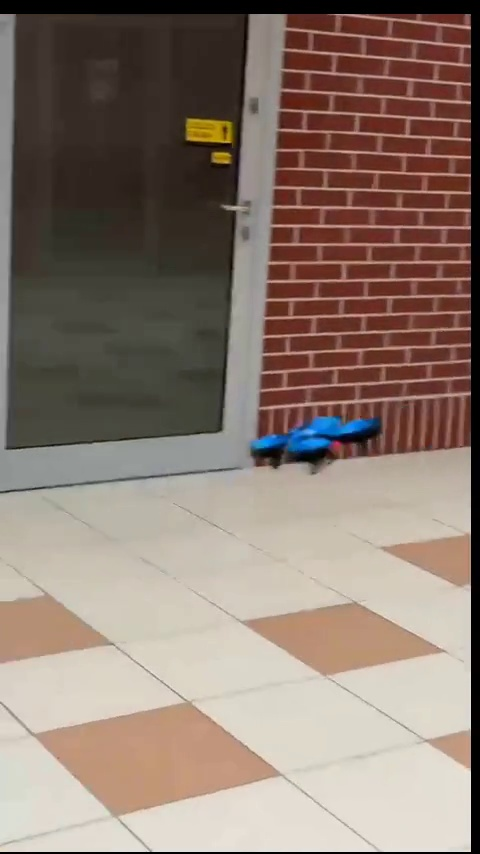drone: (251, 411, 383, 470)
